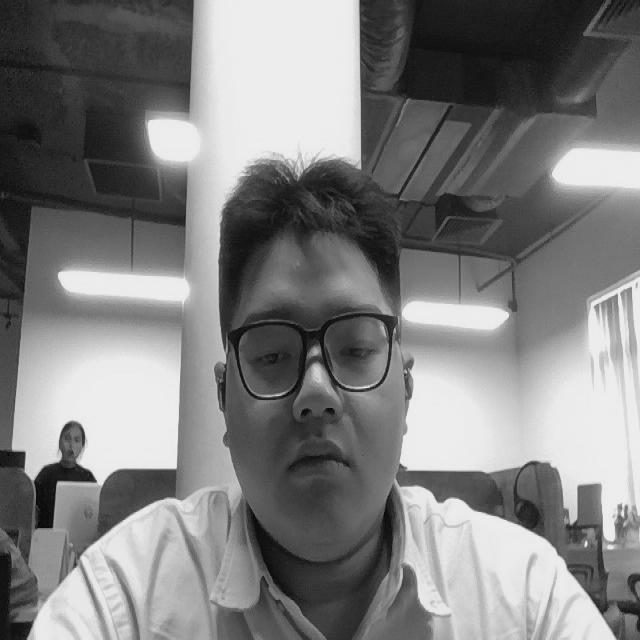real: (205, 152, 423, 568), (231, 323, 399, 390)
